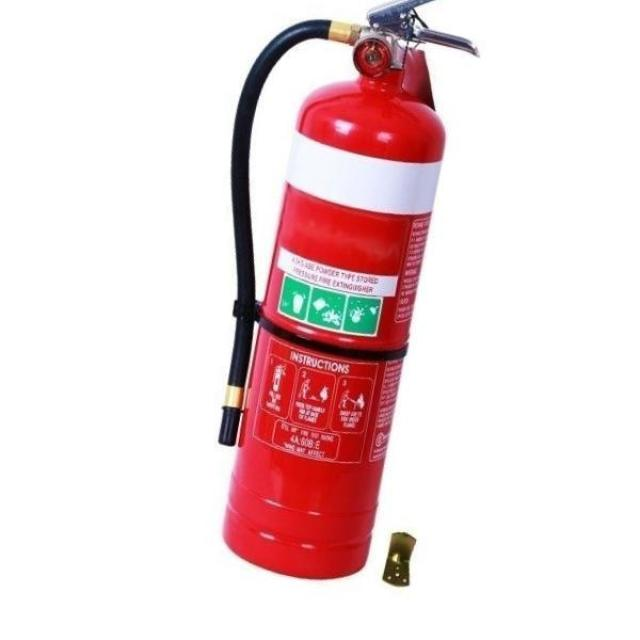fire_extinguisher: (205, 0, 490, 586)
